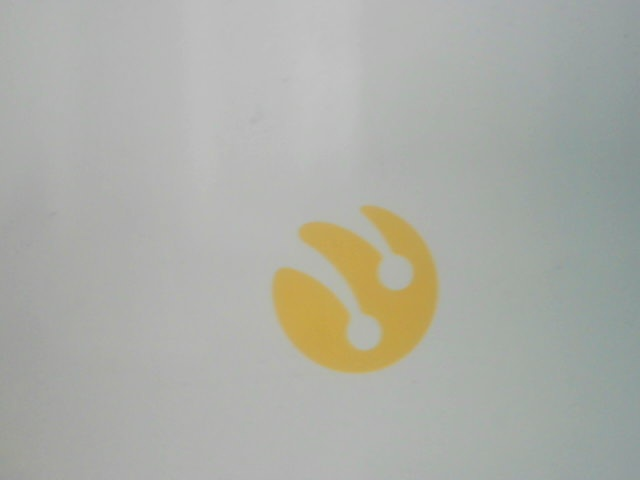AV_H3600Yellow: (263, 198, 455, 380)
